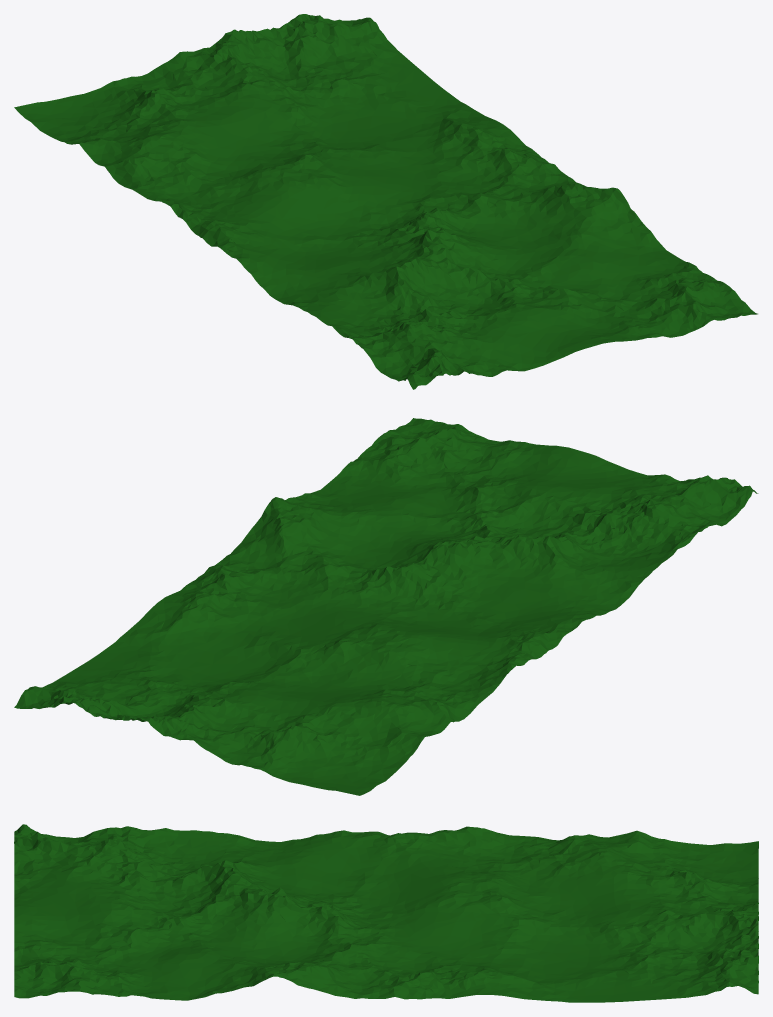
File: Landscape.fbx
3 views of the same model, one above another, from view 1: azimuth 30°, elevation 25°; view 2: azimuth 150°, elevation 25°; view 3: azimuth 270°, elevation 25° (orthographic). The views are drawn at different scales.
Parts seen in each view (by area): view 1: Landscape; view 2: Landscape; view 3: Landscape.
Boxes of the visible parts, x1,y1,x2,y2 form: Landscape: (14,14,757,389); Landscape: (14,418,758,795); Landscape: (14,824,758,1002).
Bounding box in the file's own units: 2002 × 1001 × 91.75.
